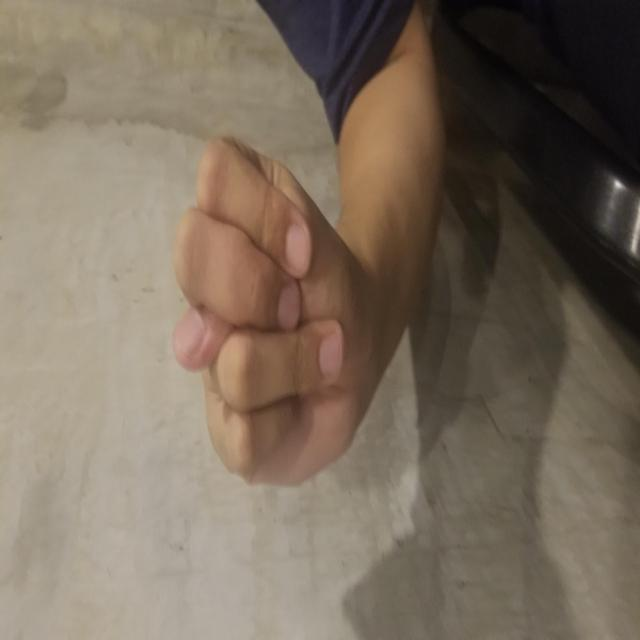N: (151, 173, 506, 363)
